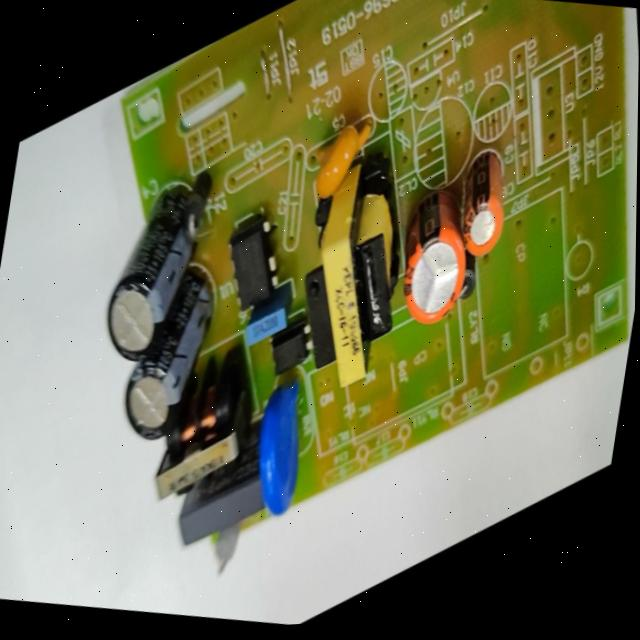Cap1: (376, 161, 491, 354)
Cap2: (440, 128, 523, 280)
Cap3: (109, 301, 228, 451)
Cap4: (72, 150, 231, 391)
MOSFET: (211, 194, 298, 329)
Mov: (233, 360, 330, 538)
Resistor: (199, 514, 250, 586)
Transformer: (277, 132, 436, 416), (139, 370, 259, 520)
